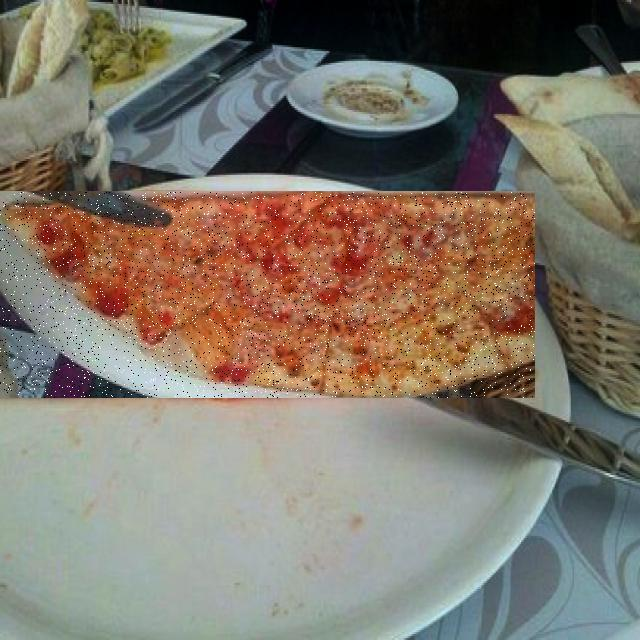Pizza: (0, 193, 535, 398)
